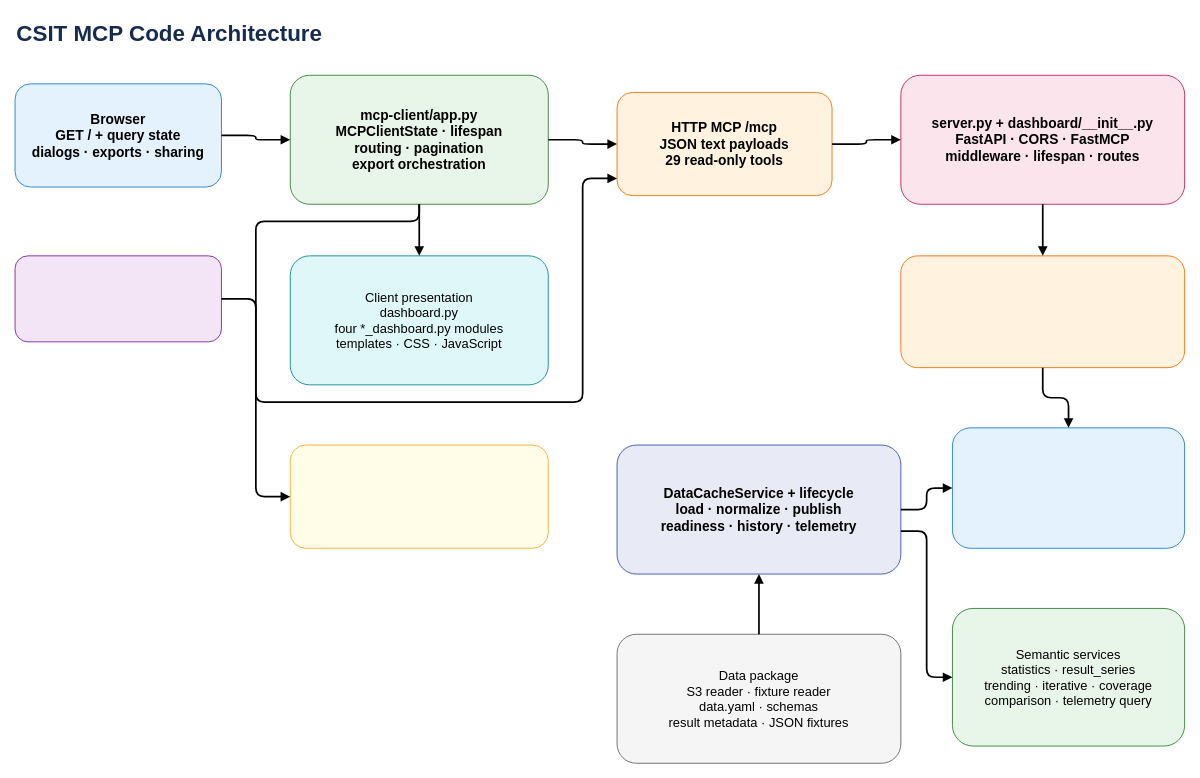
This 1200x778 diagram has some shape labels left out. The centre of each missing label's shape, as x and y in pixels:
"Client exports five *_export.py modules UTF-8 CSV · XLSX tables" belongs at pixel 418 496.
"Codex / Claude direct MCP consumers" belongs at pixel 117 298.
"Generic services discovery · query · analysis serialization · observability" belongs at pixel 1068 487.
"mcp_tools.py + routes.py tools · resources /health · /ready · refresh" belongs at pixel 1042 311.
